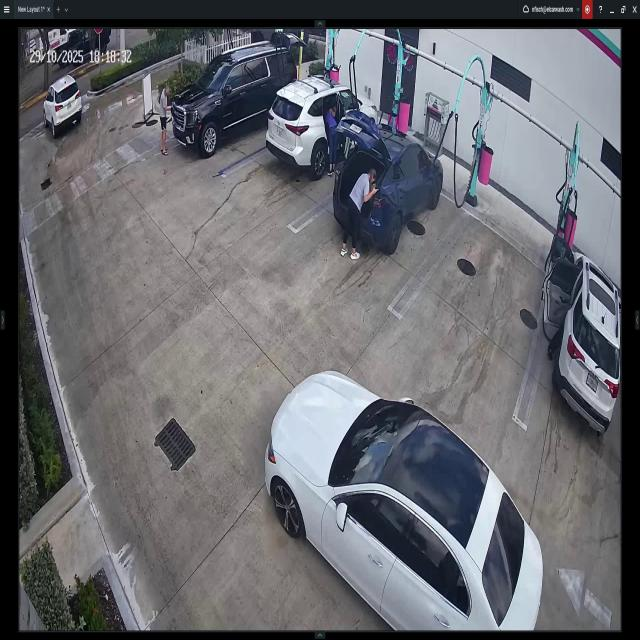Car: (264, 373, 542, 632), (548, 236, 621, 432), (334, 117, 444, 246), (172, 46, 296, 156), (267, 74, 380, 177), (43, 78, 82, 137)
